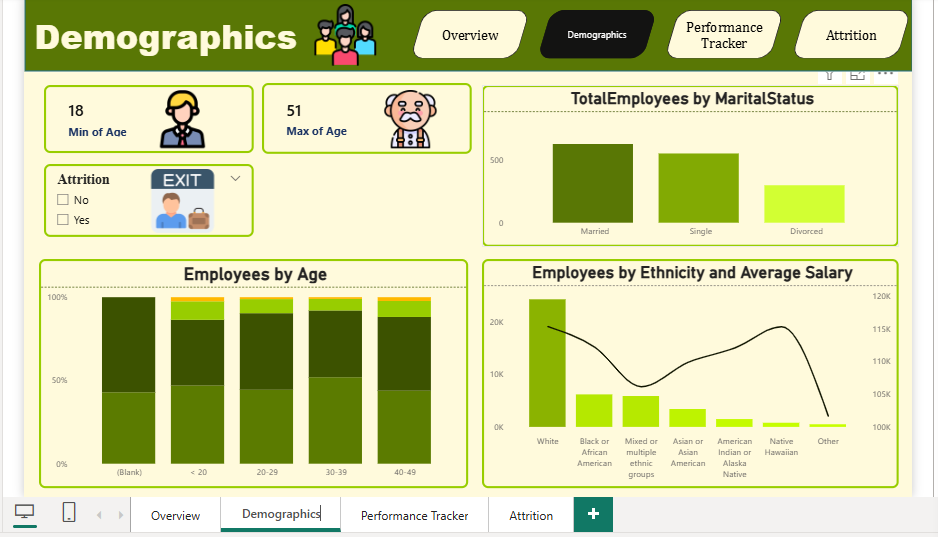

What the dashboard file says about the page in this screenshot:
{"tool":"powerbi","page":{"name":"Demographics","canvas":[1280,720],"ordinal":1},"visuals":[{"type":"cardVisual","title":"Oldest Employee","fields":{"Data":["Max(Dim-Employee.Age)"]},"box":[342.7,123.8,302.4,102.2],"z":0},{"type":"cardVisual","title":"Youngest Employee","fields":{"Data":["Min(Dim-Employee.Age)"]},"box":[28.8,126.7,302.4,97.9],"z":1000},{"type":"hundredPercentStackedColumnChart","title":"Employees by Age","fields":{"Y":["_Measures.TotalEmployees"],"Category":["Dim-Employee.AgeBins"],"Series":["Dim-Employee.Gender"]},"box":[21.6,377.3,617.8,329.8],"z":2000},{"type":"slicer","fields":{"Values":["Dim-Employee.Attrition"]},"box":[28.8,240.5,302.4,105.1],"z":3000},{"type":"clusteredColumnChart","fields":{"Category":["Dim-Employee.MaritalStatus"],"Y":["_Measures.TotalEmployees"]},"box":[659.5,126.7,600.5,233.3],"z":4000},{"type":"lineStackedColumnComboChart","title":"Employees by Ethnicity and Average Salary","fields":{"Category":["Dim-Employee.Ethnicity"],"Y2":["Avg(Dim-Employee.Salary)"],"Y":["Sum(Dim-Employee.Age)"]},"box":[659.5,377.3,600.5,329.8],"z":5000},{"type":"shape","box":[0,0,1280.2,108],"z":6000},{"type":"textbox","box":[28.8,0,419,108],"z":7000},{"type":"pageNavigator","box":[555.8,18.7,724.3,70.6],"z":8000},{"type":"image","box":[468,133.9,177.1,83.5],"z":9000},{"type":"image","box":[151.2,133.9,154.1,83.5],"z":10000},{"type":"image","box":[145.4,247.7,165.6,92.2],"z":11000},{"type":"image","box":[403.2,10.1,119.5,89.3],"z":12000}]}

Visuals, with their boxes on the page's 1280x720 design canvas (x1, y1, x2, y2). These are canvas units, not pixel positions in the 938x537 screenshot, which may show the page scaled, cropped or inside an application window:
"Oldest Employee" cardVisual: bbox(343, 124, 645, 226)
"Youngest Employee" cardVisual: bbox(29, 127, 331, 225)
"Employees by Age" hundredPercentStackedColumnChart: bbox(22, 377, 639, 707)
slicer - Dim-Employee.Attrition: bbox(29, 240, 331, 346)
clusteredColumnChart - Dim-Employee.MaritalStatus x _Measures.TotalEmployees: bbox(660, 127, 1260, 360)
"Employees by Ethnicity and Average Salary" lineStackedColumnComboChart: bbox(660, 377, 1260, 707)
shape: bbox(0, 0, 1280, 108)
textbox: bbox(29, 0, 448, 108)
pageNavigator: bbox(556, 19, 1280, 89)
image: bbox(468, 134, 645, 217)
image: bbox(151, 134, 305, 217)
image: bbox(145, 248, 311, 340)
image: bbox(403, 10, 523, 99)
